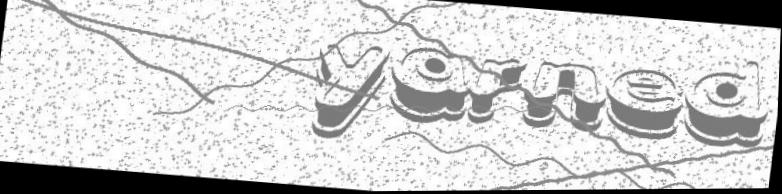a: (386, 43, 473, 130)
d: (678, 54, 775, 155)
e: (603, 65, 689, 144)
n: (522, 54, 613, 139)
r: (465, 52, 527, 129)
y: (303, 40, 393, 141)
